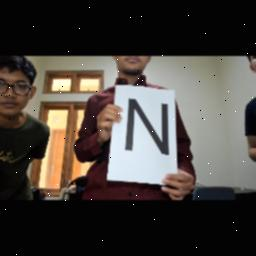n: (123, 96, 169, 162)
